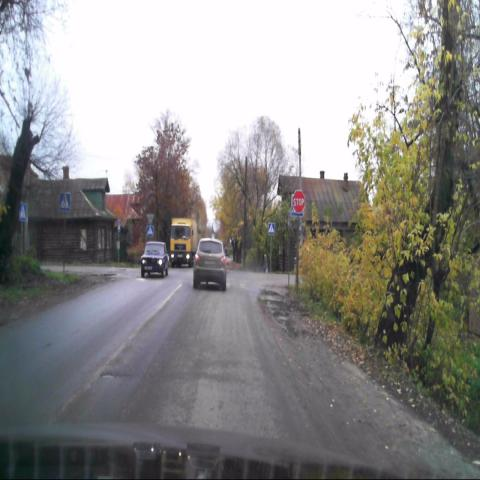2_5: (292, 191, 305, 213)
